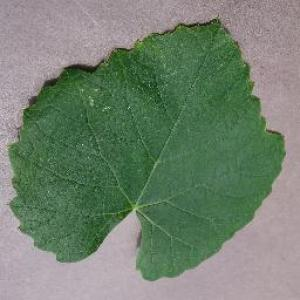Folha: (6, 15, 286, 281)
